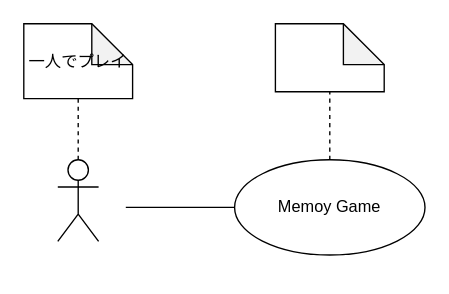
The diagram is 449 pixels wide and 294 high, and some of its shapes have lost their labels. Each missing label, with the centre of its shape:
Webアプリ: point (329, 57)
プレイヤー: point (77, 199)
